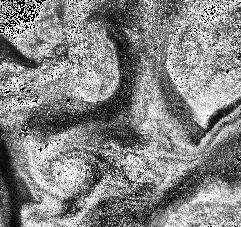CE: (27, 133, 111, 204)
